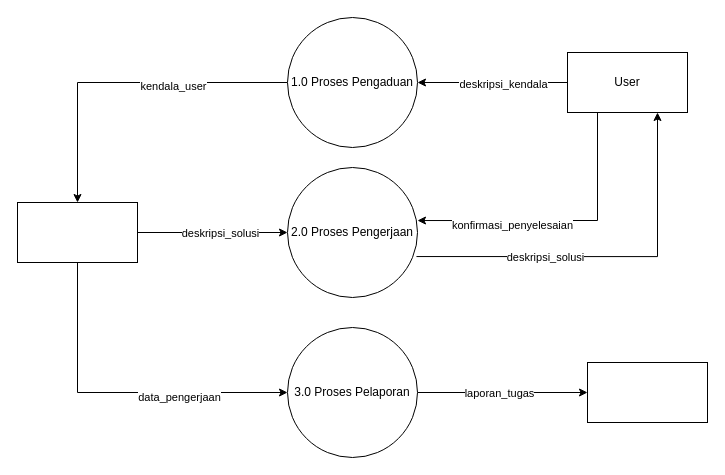
This 725x475 diagram has some shape labels left out. The shapes that lost their labels are listed below. From the top down, each one's centre as x and y in pixels, then its label:
At (x=77, y=232): "IT Support".
At (x=647, y=392): "Head IT".
